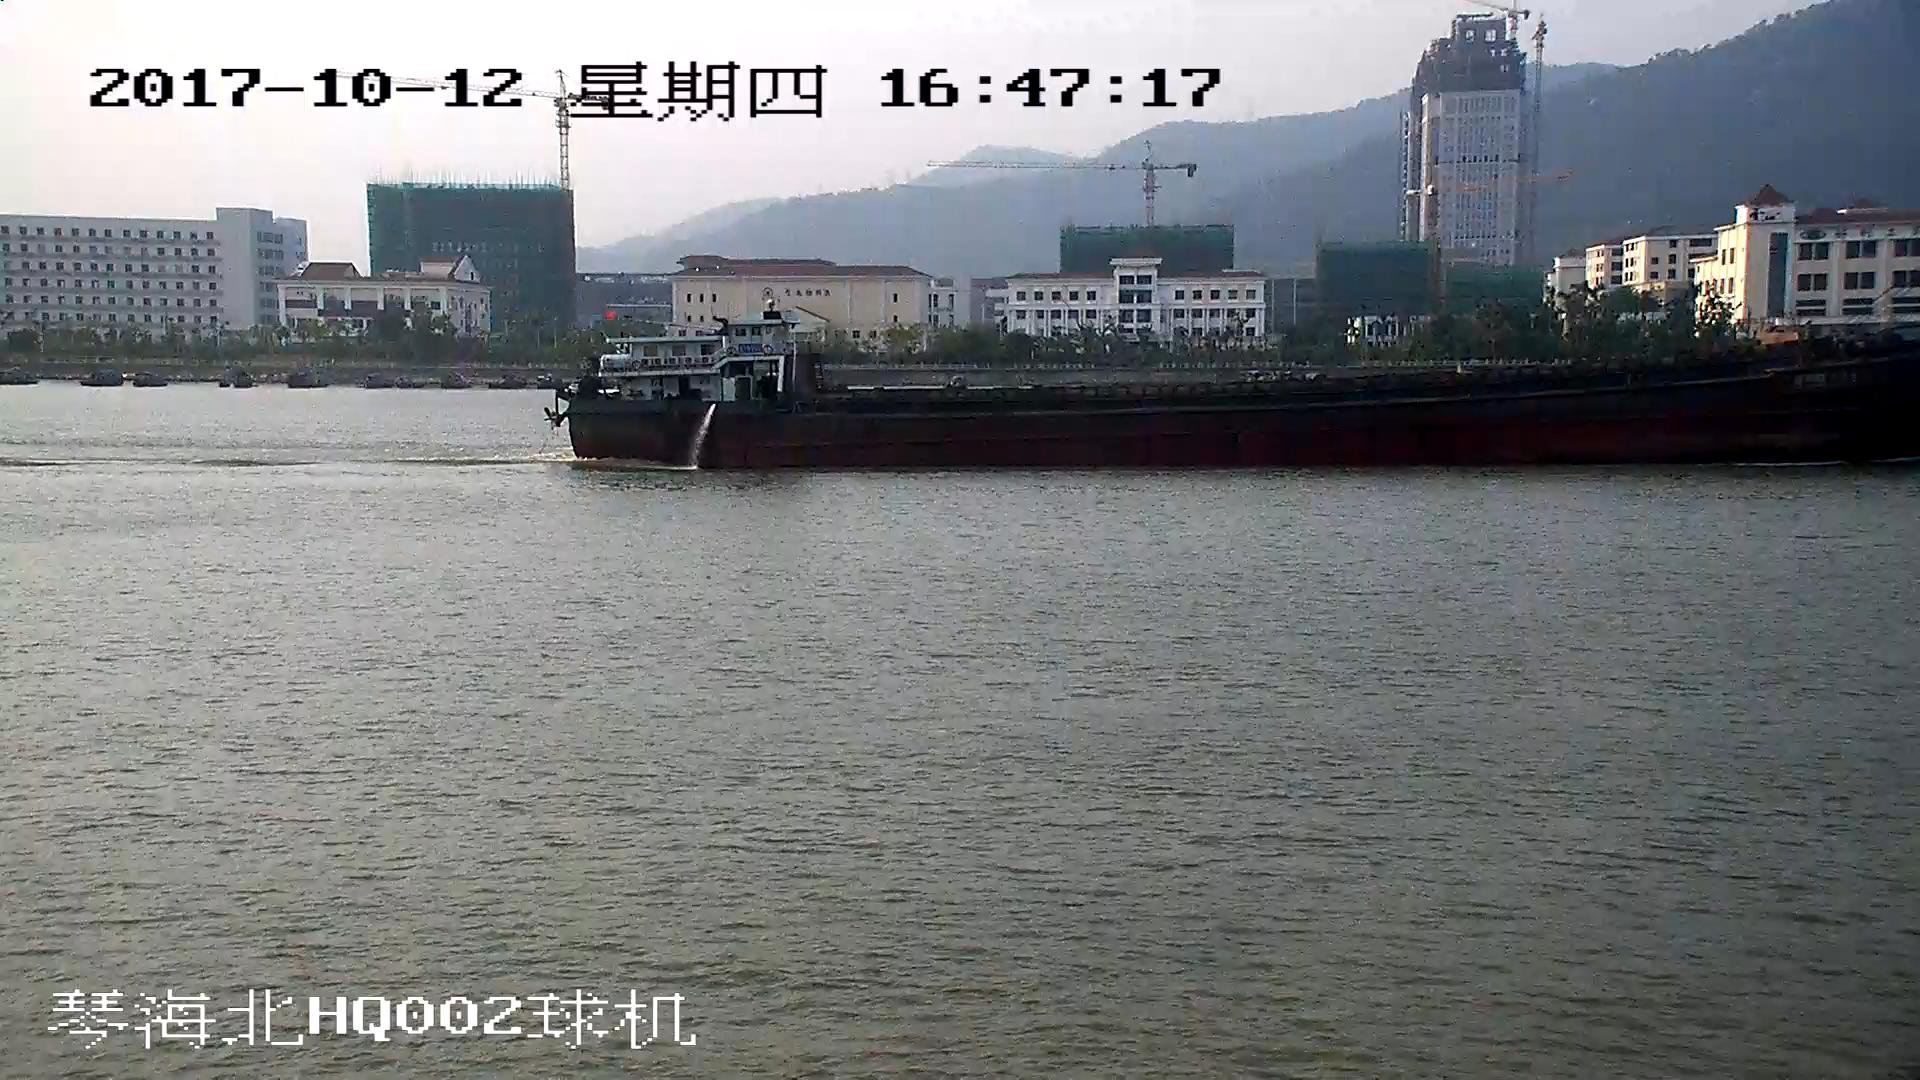bulk cargo carrier: (561, 317, 1920, 473)
